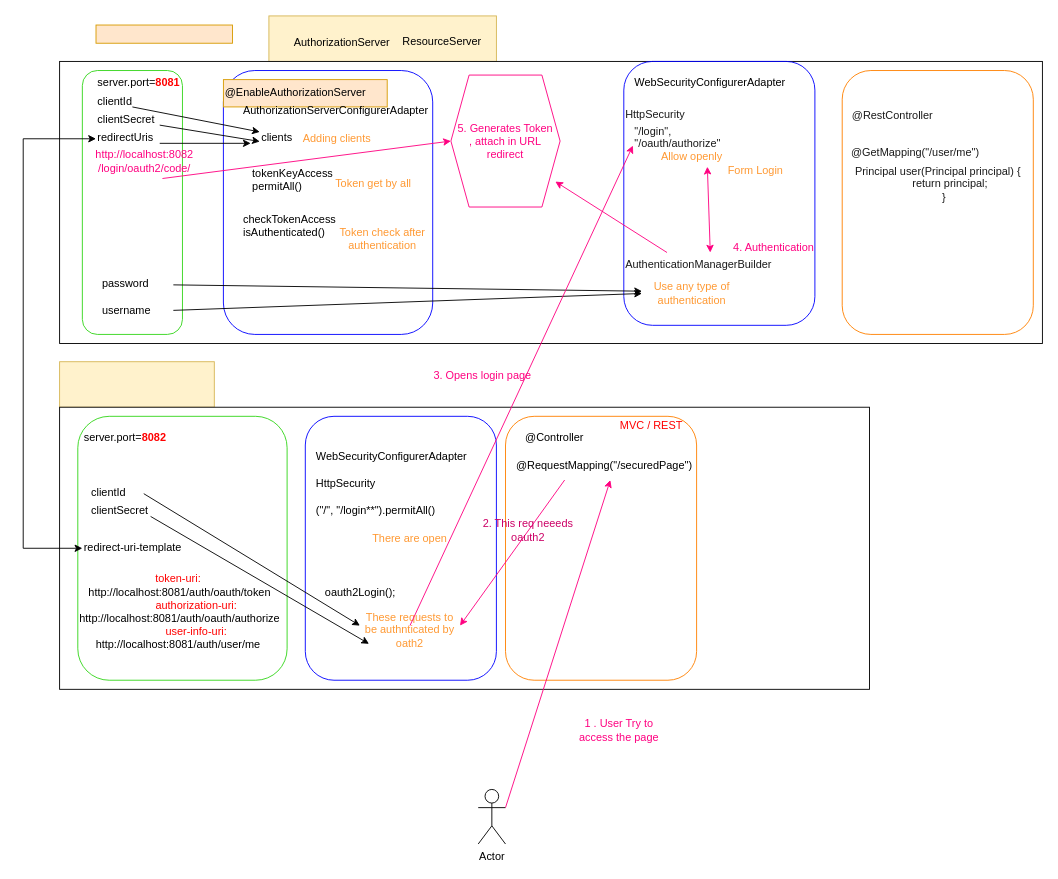
Image size: 1058x879. Some labels were removed from this diagram. The shapes that lost their labels are listed below. From the top down, each one's centre as x and y in pixels, then its label:
pixel 164 33: @EnableResourceServer
pixel 136 384: Client APP
